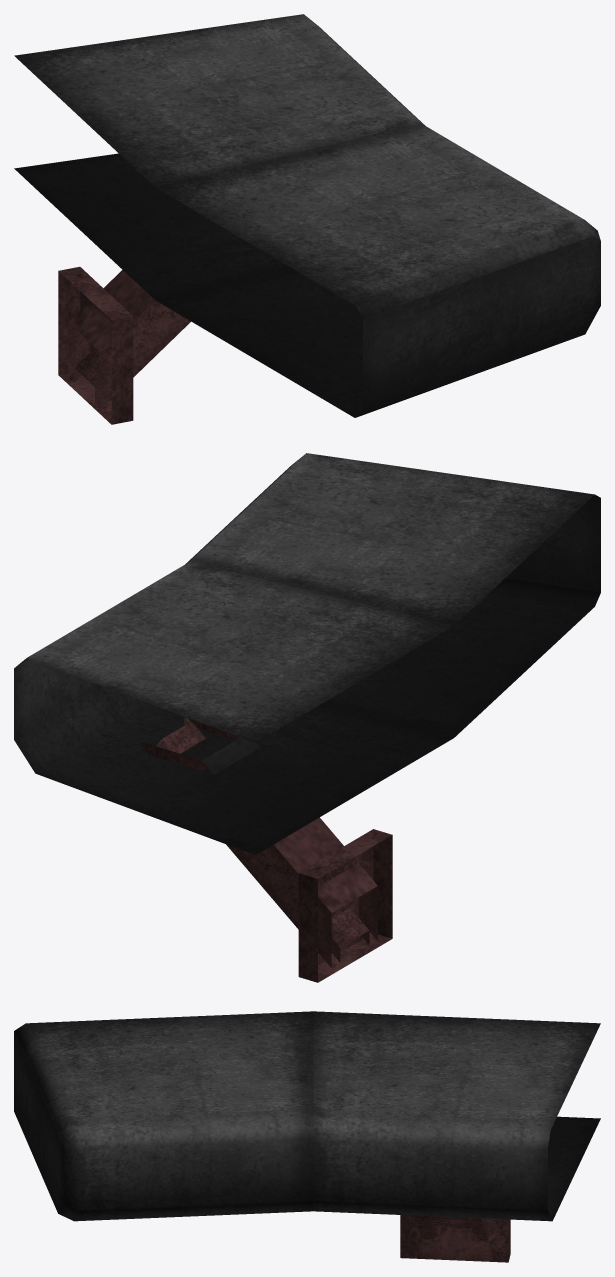
The model's file is SM_I_ConcreteSlabs.fbx.
The picture shows the model from 3 angles, top to bottom: view 1: azimuth 30°, elevation 25°; view 2: azimuth 150°, elevation 25°; view 3: azimuth 270°, elevation 25°; orthographic projection. The views are drawn at different scales.
Parts seen in each view (by area): view 1: concreteslabend, concreteslabmiddle, polySurface1; view 2: concreteslabmiddle, concreteslabend, polySurface1; view 3: concreteslabend, concreteslabmiddle, polySurface1.
Boxes of the visible parts, bbox=[...] form: concreteslabend: bbox=[155, 123, 600, 417]; concreteslabmiddle: bbox=[14, 14, 425, 300]; polySurface1: bbox=[58, 266, 190, 424]; concreteslabmiddle: bbox=[14, 561, 453, 854]; concreteslabend: bbox=[186, 453, 600, 737]; polySurface1: bbox=[138, 716, 392, 982]; concreteslabend: bbox=[14, 1011, 313, 1221]; concreteslabmiddle: bbox=[313, 1011, 600, 1221]; polySurface1: bbox=[400, 1215, 510, 1262].
Bounding box in the file's own units: 65.27 × 57.2 × 130.
